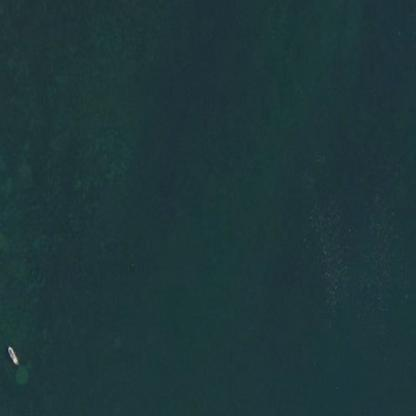ship: (6, 354, 18, 356)
